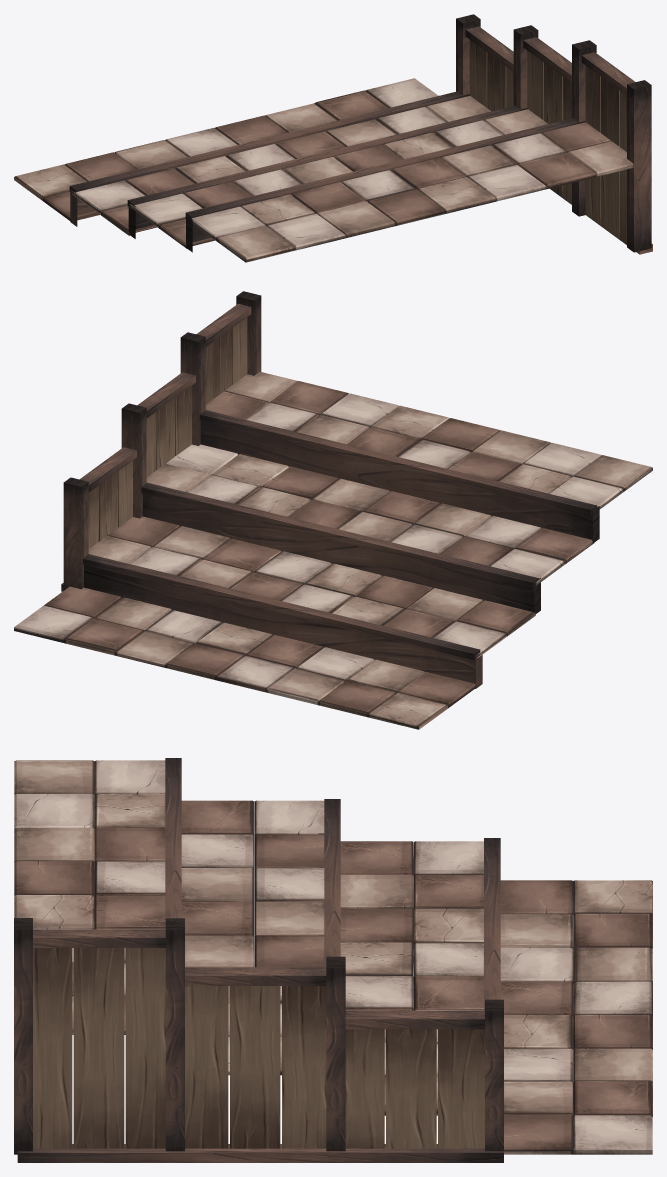
The model's file is Floor_3_Steps_Straight_Walled_Half_End.fbx.
3 renders of one model, top to bottom at view 1: azimuth 30°, elevation 25°; view 2: azimuth 150°, elevation 25°; view 3: azimuth 270°, elevation 25°, orthographic. The views are drawn at different scales.
Visible parts, largest first — view 1: Floor_Stairs_3_Steps, Stair_Wood_Wall17; view 2: Floor_Stairs_3_Steps, Stair_Wood_Wall17; view 3: Floor_Stairs_3_Steps, Stair_Wood_Wall17.
Part boxes in pixels (bbox=[...]): Floor_Stairs_3_Steps: bbox=[14, 78, 633, 262]; Stair_Wood_Wall17: bbox=[456, 14, 652, 254]; Floor_Stairs_3_Steps: bbox=[14, 371, 652, 729]; Stair_Wood_Wall17: bbox=[61, 291, 261, 591]; Floor_Stairs_3_Steps: bbox=[14, 758, 652, 1154]; Stair_Wood_Wall17: bbox=[14, 918, 503, 1162].
Size of the model in its own units: 0.611 by 0.24 by 0.6008.
